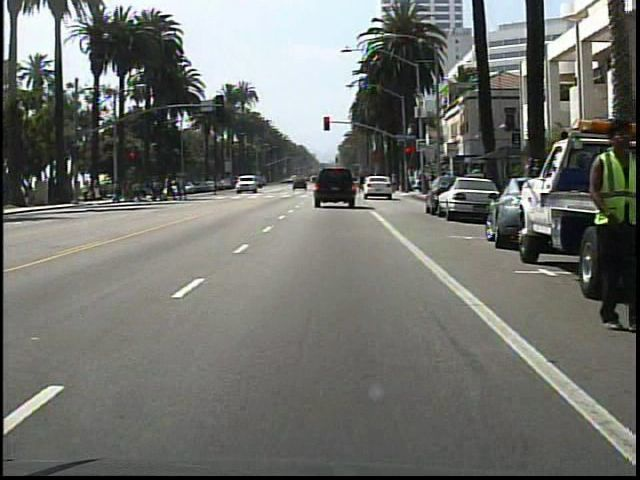person: (568, 116, 640, 331), (207, 172, 226, 201)
